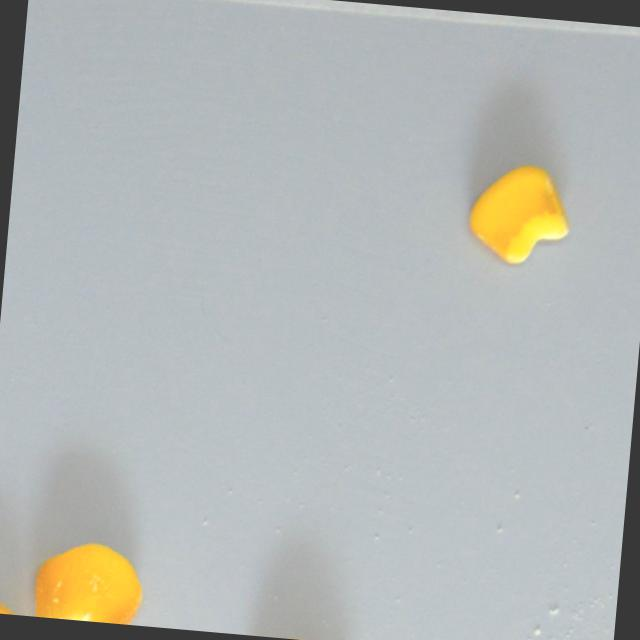no_canjicado: (463, 158, 574, 269)
pelicula: (34, 535, 145, 625), (0, 588, 41, 617)
